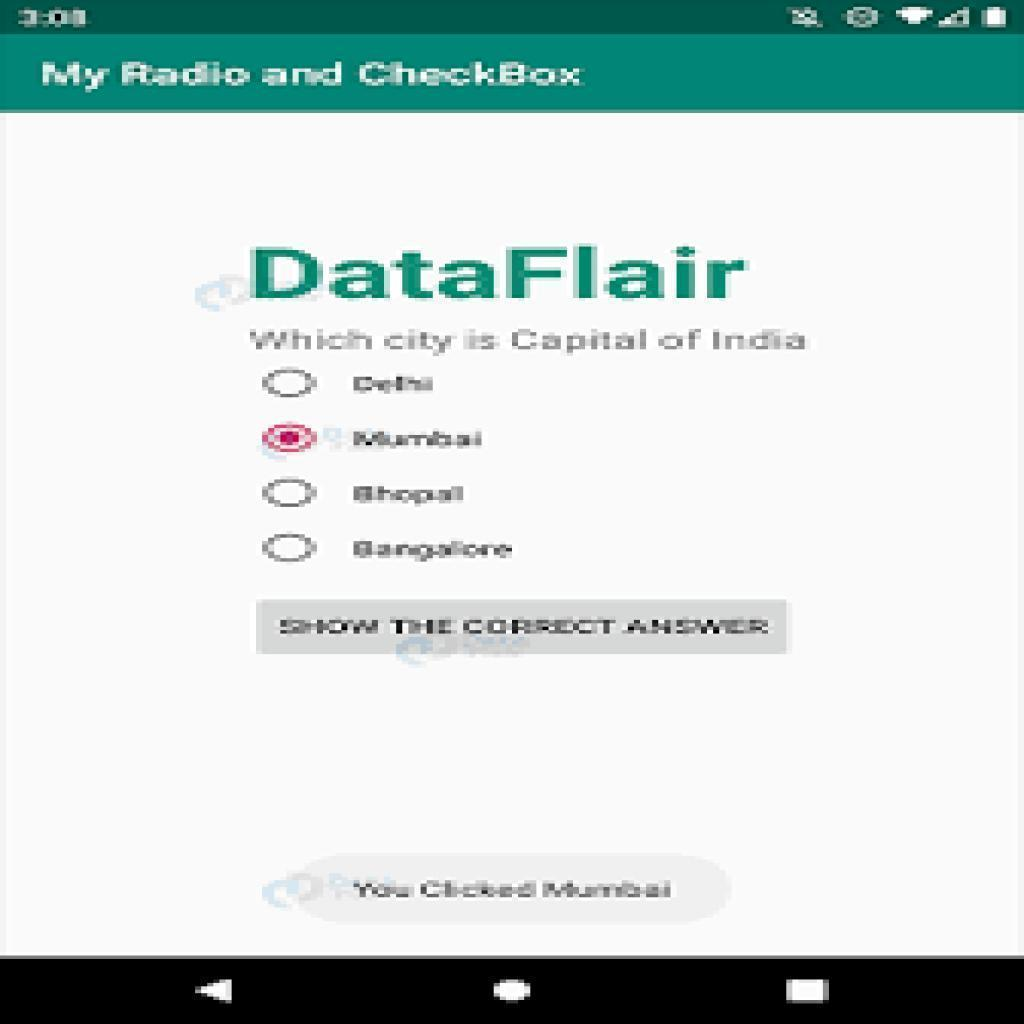button: (295, 851, 729, 924), (254, 599, 788, 656)
radio: (257, 419, 325, 458), (257, 529, 323, 568), (260, 471, 325, 509), (255, 366, 324, 398)
